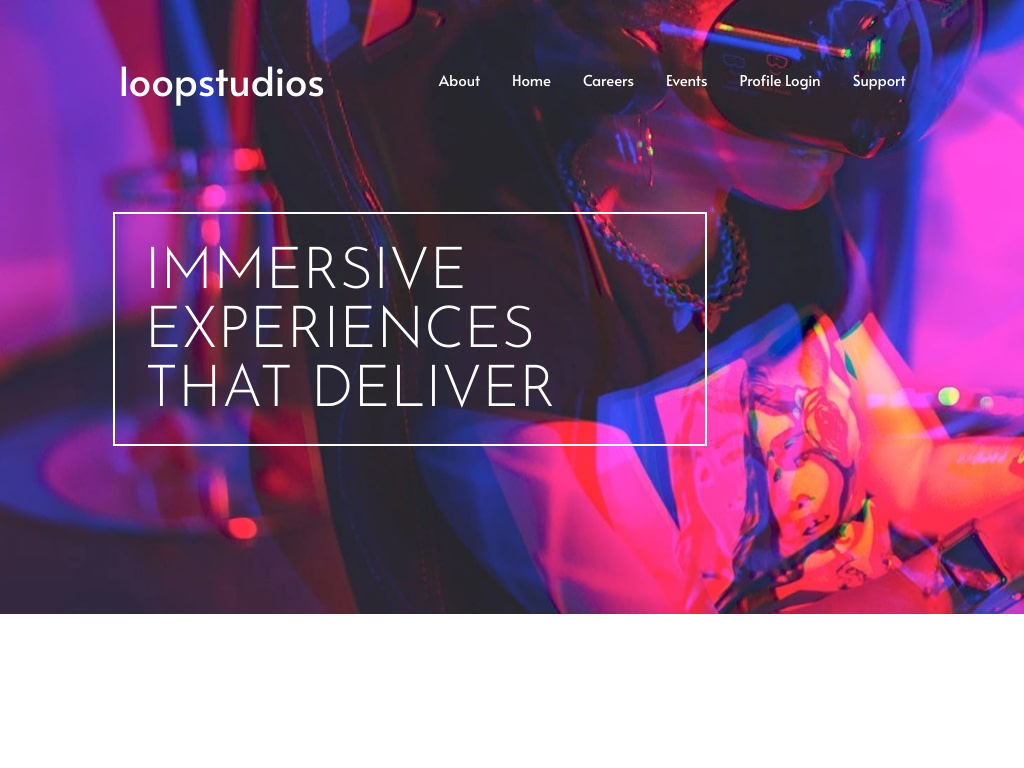
it: example to-do app › profiles check
This screenshot has width=1024, height=768.
Click the text "Profile Login" at (781, 80), box [740, 69, 821, 90]
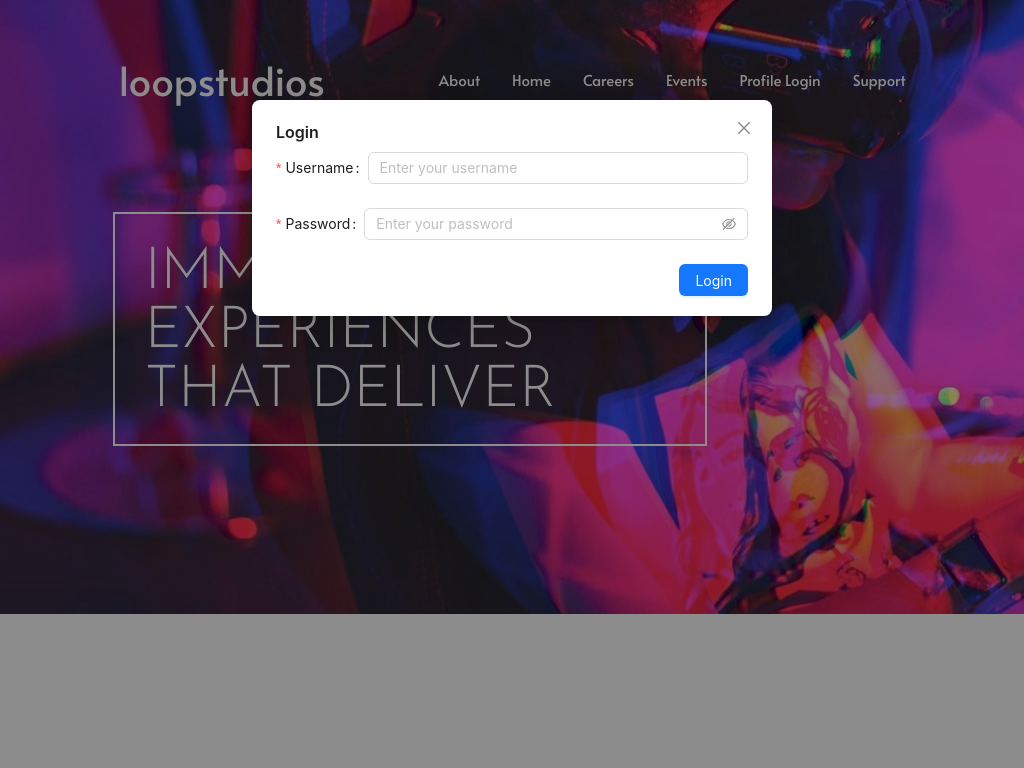
expect the field labelled "Username" is shown: met, box [368, 152, 748, 184]
expect the password field labelled "Password" is shown: met, box [376, 213, 718, 235]
